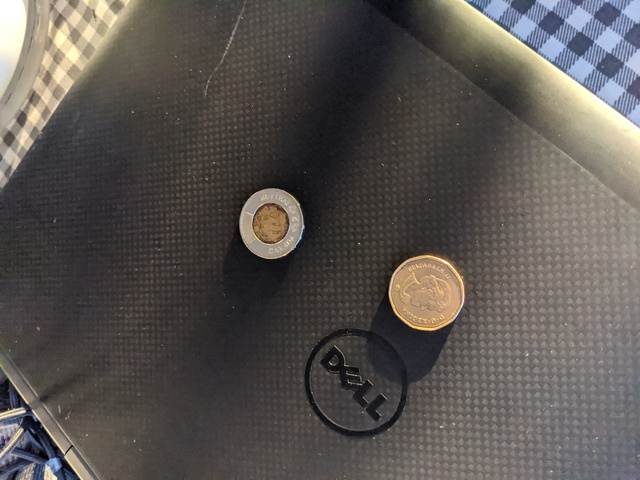loonie: (383, 245, 466, 331)
twonie: (236, 186, 310, 266)
